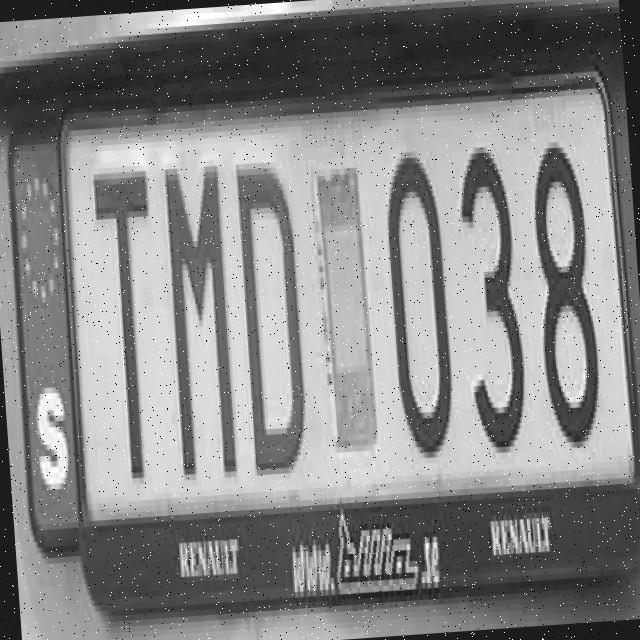EU: (5, 93, 631, 533)
Suede: (7, 128, 82, 545)
